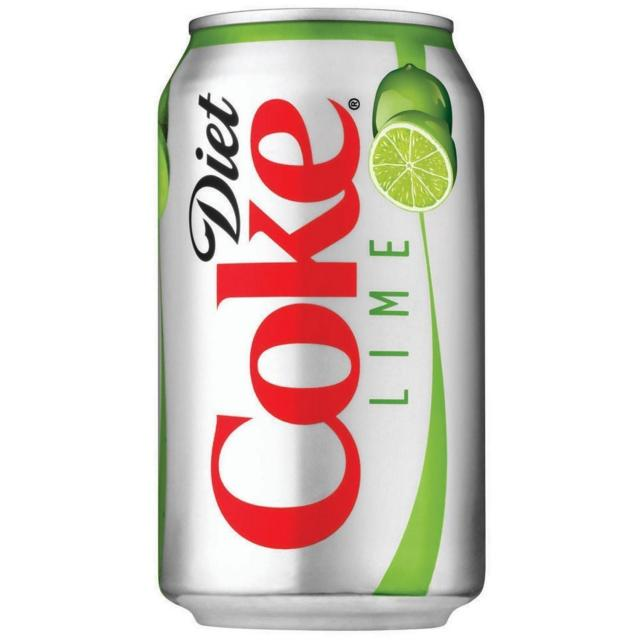tin can: (155, 3, 490, 626)
